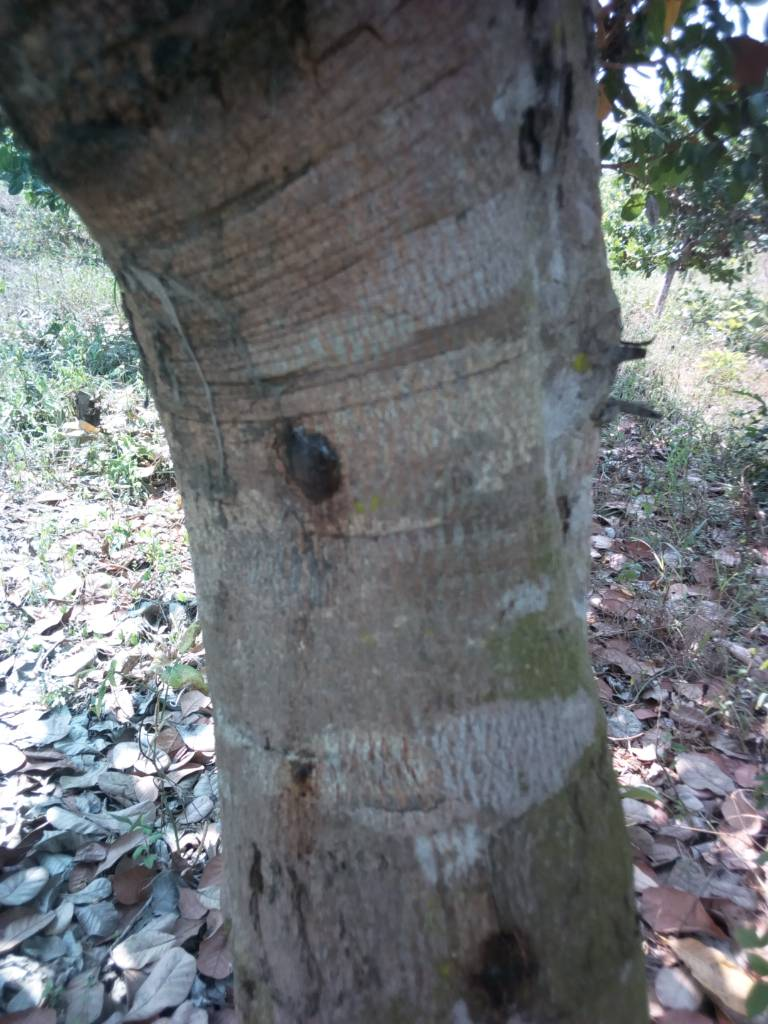Mecocorynus longiceps: (247, 406, 399, 539), (432, 899, 560, 1010)
